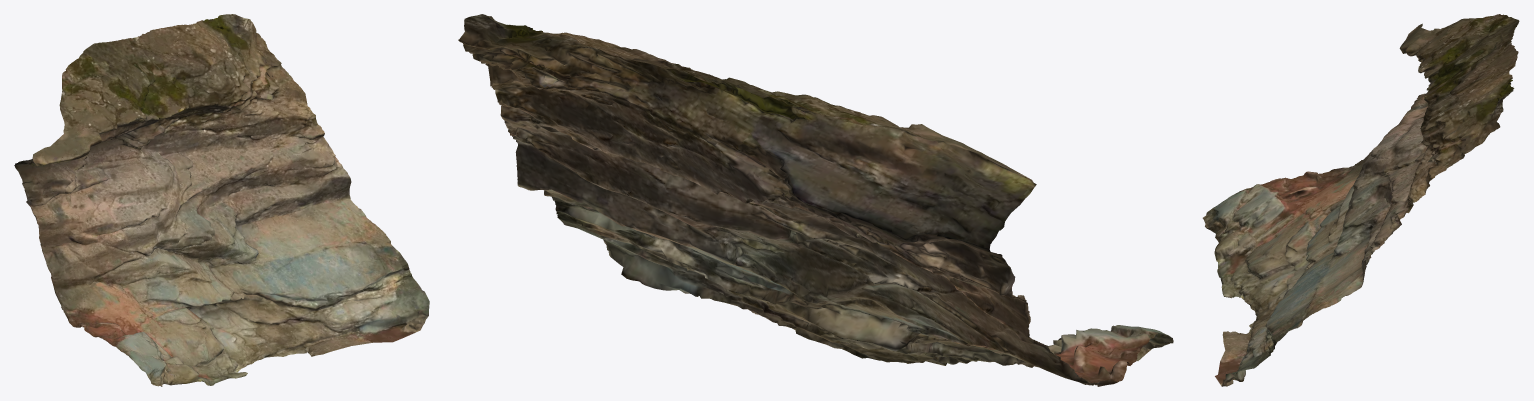
Rendered from rock_face_01.glb.
3 renders of one model, left to right at view 1: azimuth 30°, elevation 25°; view 2: azimuth 150°, elevation 25°; view 3: azimuth 270°, elevation 25°, orthographic. The views are drawn at different scales.
Parts seen in each view (by area): view 1: rock_face_01; view 2: rock_face_01; view 3: rock_face_01.
Boxes of the visible parts, x1,y1,x2,y2 form: rock_face_01: (14,14,429,386); rock_face_01: (458,14,1173,386); rock_face_01: (1202,14,1519,386).
Bounding box in the file's own units: 4.95 × 3.56 × 3.83.
1 material, 1 textured.
